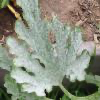Squash Powdery mildew leaf: (5, 0, 91, 97)
